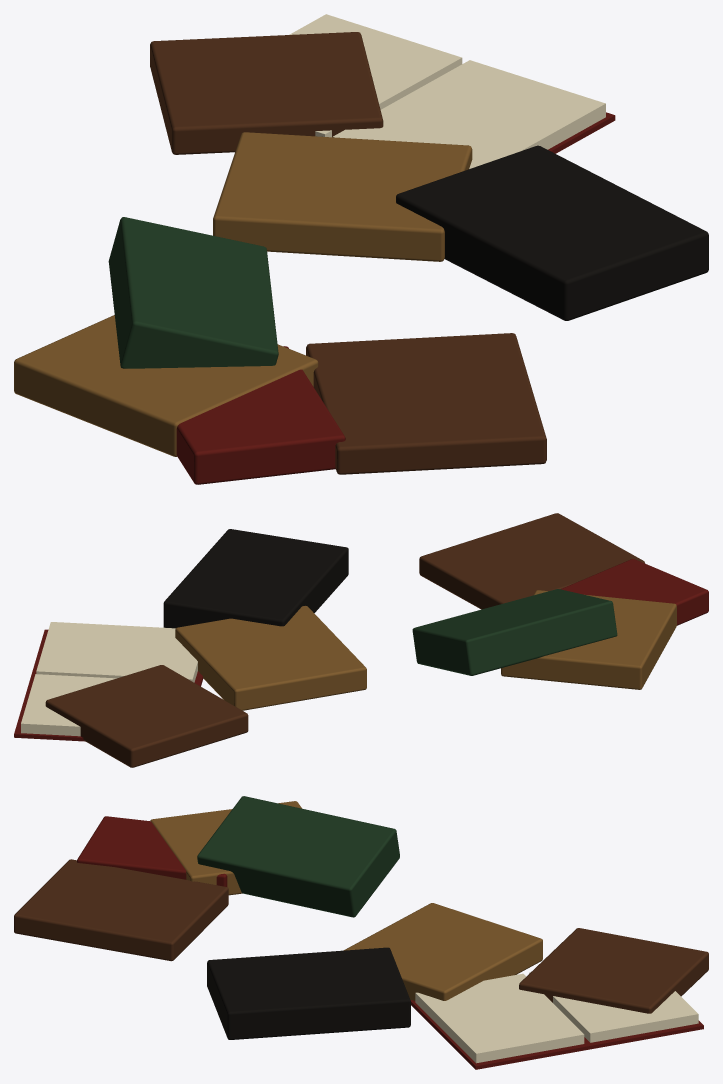
The model's file is books_fallen.glb.
3 views of the same model, one above another, from view 1: azimuth 30°, elevation 25°; view 2: azimuth 150°, elevation 25°; view 3: azimuth 270°, elevation 25° (orthographic). The views are drawn at different scales.
Visible parts, largest first — view 1: buch4, buch5, buch0, buch1, buch6, buch2, blaetter-1, buch3, blaetter1; view 2: buch0, buch4, buch1, buch5, buch6, buch2, blaetter-1, buch3, blaetter1, offen1; view 3: buch6, buch4, buch5, buch0, buch1, blaetter-1, buch3, blaetter1, buch2, offen-1, offen1.
Part boxes in pixels (<box>): buch4: <box>396,145,708,320</box>; buch5: <box>306,333,546,474</box>; buch0: <box>213,132,472,261</box>; buch1: <box>150,32,383,154</box>; buch6: <box>108,217,278,368</box>; buch2: <box>14,315,318,456</box>; blaetter-1: <box>333,60,605,168</box>; buch3: <box>176,346,345,484</box>; blaetter1: <box>289,14,462,137</box>; buch0: <box>175,605,366,710</box>; buch4: <box>163,529,348,628</box>; buch1: <box>45,665,248,767</box>; buch5: <box>419,513,644,609</box>; buch6: <box>412,589,617,675</box>; buch2: <box>501,590,676,689</box>; blaetter-1: <box>36,622,197,682</box>; buch3: <box>561,559,708,625</box>; blaetter1: <box>21,674,116,736</box>; offen1: <box>14,682,85,741</box>; buch6: <box>197,796,399,917</box>; buch4: <box>207,947,410,1039</box>; buch5: <box>14,859,228,961</box>; buch0: <box>343,903,542,1000</box>; buch1: <box>519,928,708,1013</box>; blaetter-1: <box>415,973,584,1063</box>; buch3: <box>77,816,227,886</box>; blaetter1: <box>529,972,698,1042</box>; buch2: <box>150,801,301,895</box>; offen-1: <box>410,1000,589,1069</box>; offen1: <box>584,1020,703,1049</box>.
Bounding box in the file's own units: 0.8914 × 0.0945 × 1.07.
